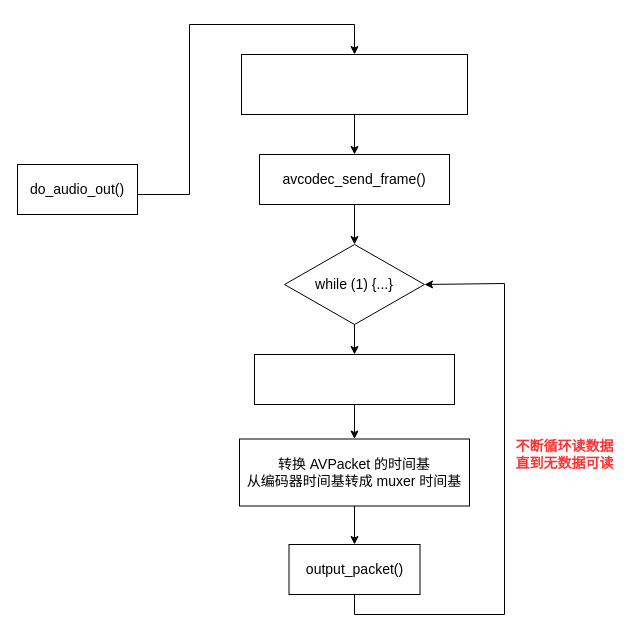
Image size: 632x640. Some labels were removed from this diagram. Each missing label, with the centre of its shape:
"avcodec_receive_packet()" belongs at point 354,379.
"转换 AVFrame 的时间基 从滤镜时间基转成编码器时间基" belongs at point 354,84.
